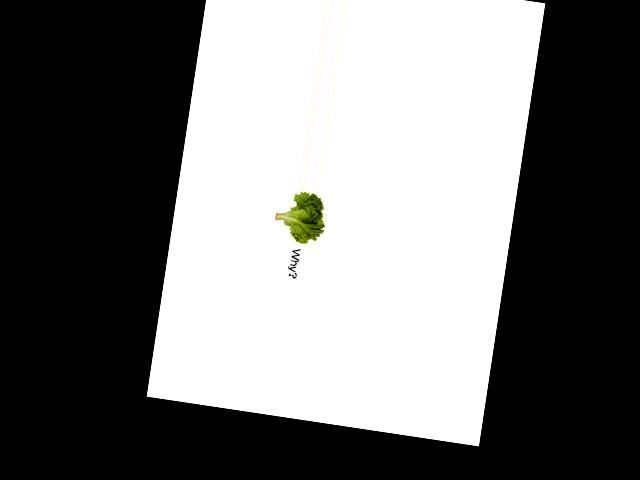lettuce: (270, 186, 329, 251)
